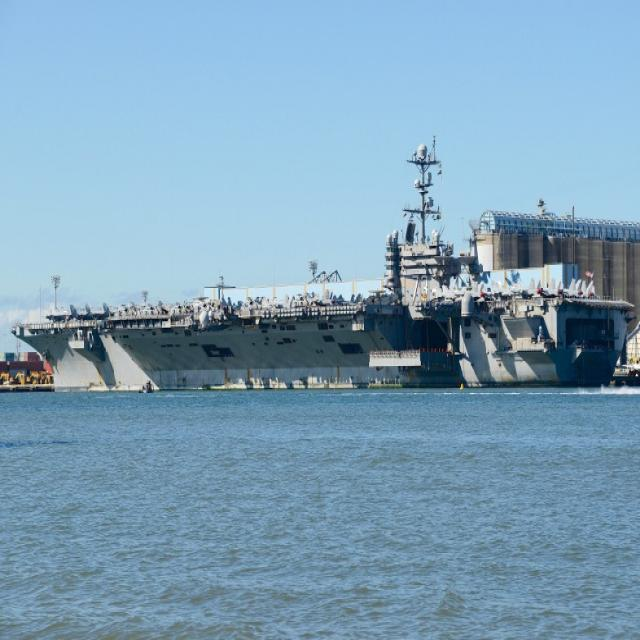Portanaves: (14, 126, 640, 392)
